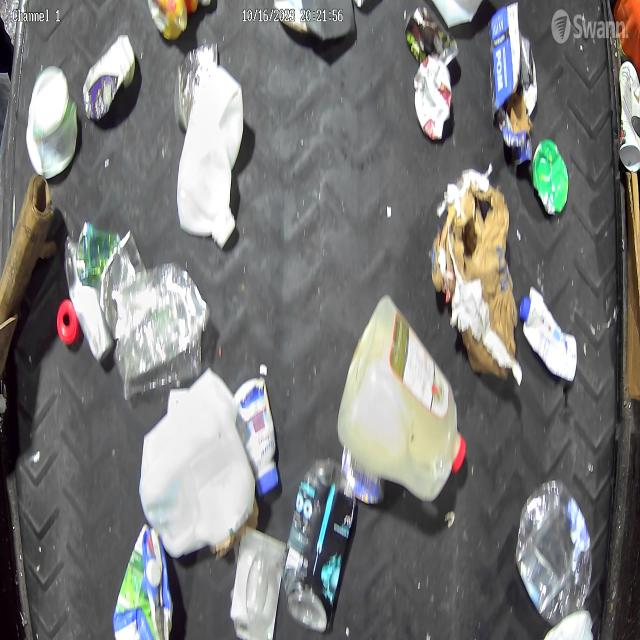can: (404, 6, 458, 66)
milk_jug: (337, 295, 467, 503), (139, 366, 257, 557), (177, 64, 245, 248)
